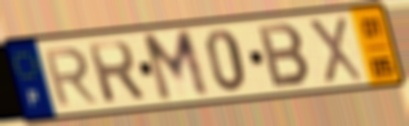0: (203, 27, 248, 96)
B: (255, 22, 314, 91)
M: (139, 26, 213, 106)
R: (84, 38, 149, 106), (40, 45, 101, 109)
X: (304, 14, 366, 86)
